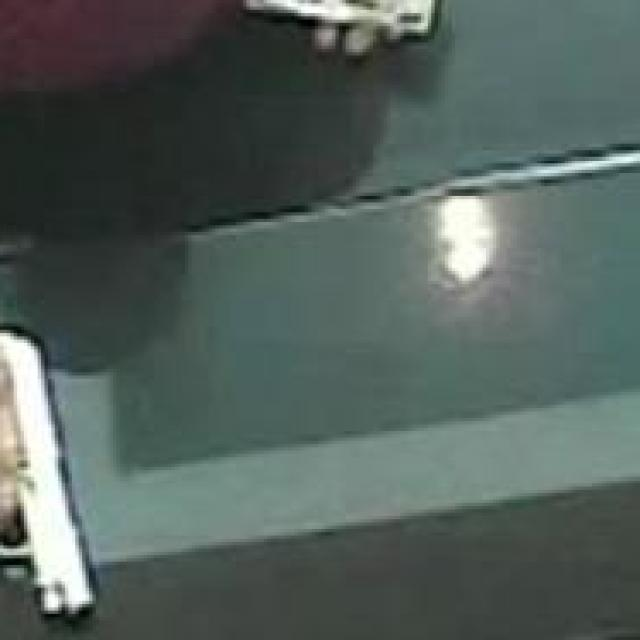Guns: (0, 313, 113, 637)
